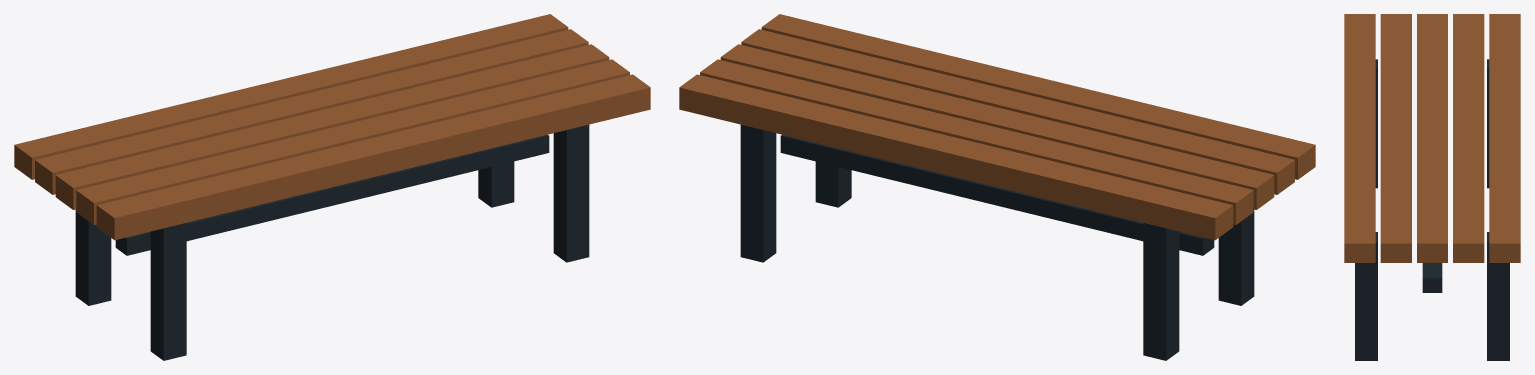
The model's file is slat-bench.obj.
3 renders of one model, left to right at view 1: azimuth 30°, elevation 25°; view 2: azimuth 150°, elevation 25°; view 3: azimuth 270°, elevation 25°, orthographic. The views are drawn at different scales.
Size of the model in its own units: 1.65 by 0.4725 by 0.535.
